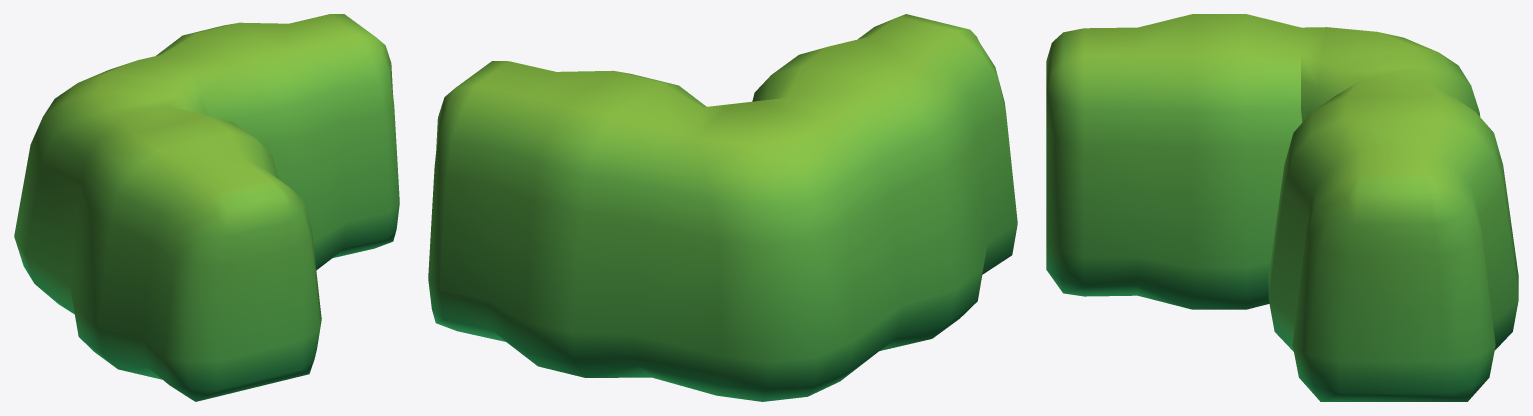
File: hedge-corner.glb
3 renders of one model, left to right at view 1: azimuth 30°, elevation 25°; view 2: azimuth 150°, elevation 25°; view 3: azimuth 270°, elevation 25°, orthographic. The views are drawn at different scales.
Parts seen in each view (by area): view 1: hedge_corner; view 2: hedge_corner; view 3: hedge_corner.
Part boxes in pixels (box(x1,y1,x2,y2)): hedge_corner: box(14, 14, 399, 401); hedge_corner: box(428, 14, 1017, 401); hedge_corner: box(1046, 14, 1518, 401).
Bounding box in the file's own units: 2.75 × 1.5 × 2.75.
1 material, 1 textured.
